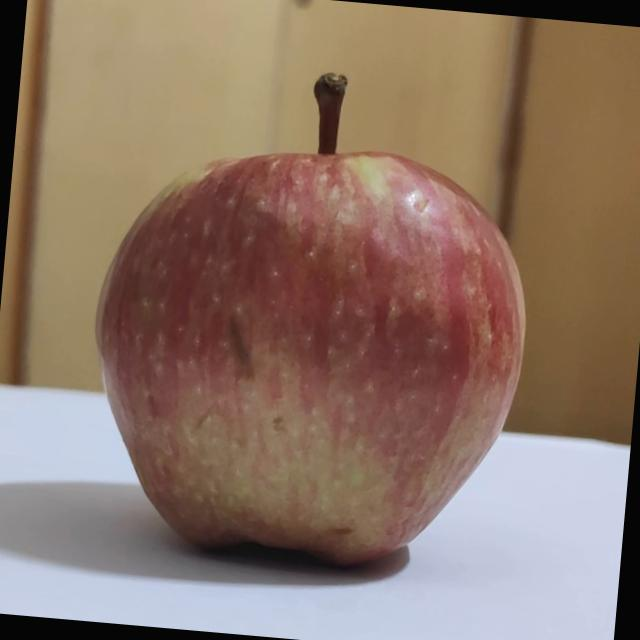apple: (67, 46, 550, 582)
